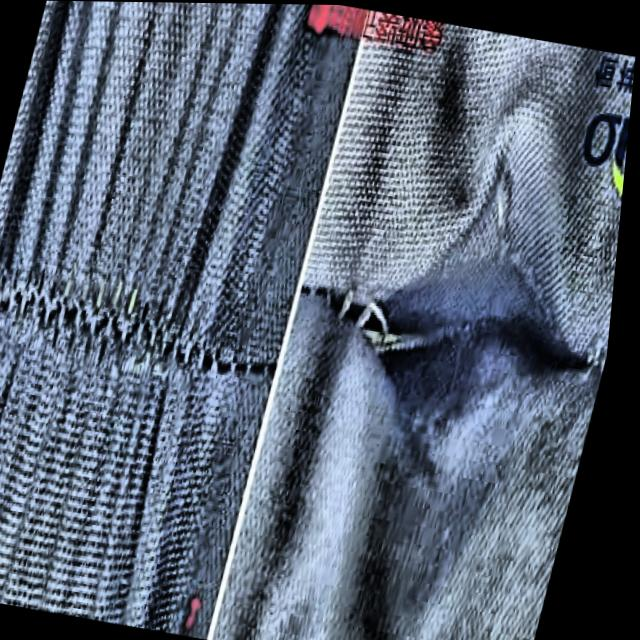seam: (311, 160, 628, 517), (0, 249, 262, 383)
